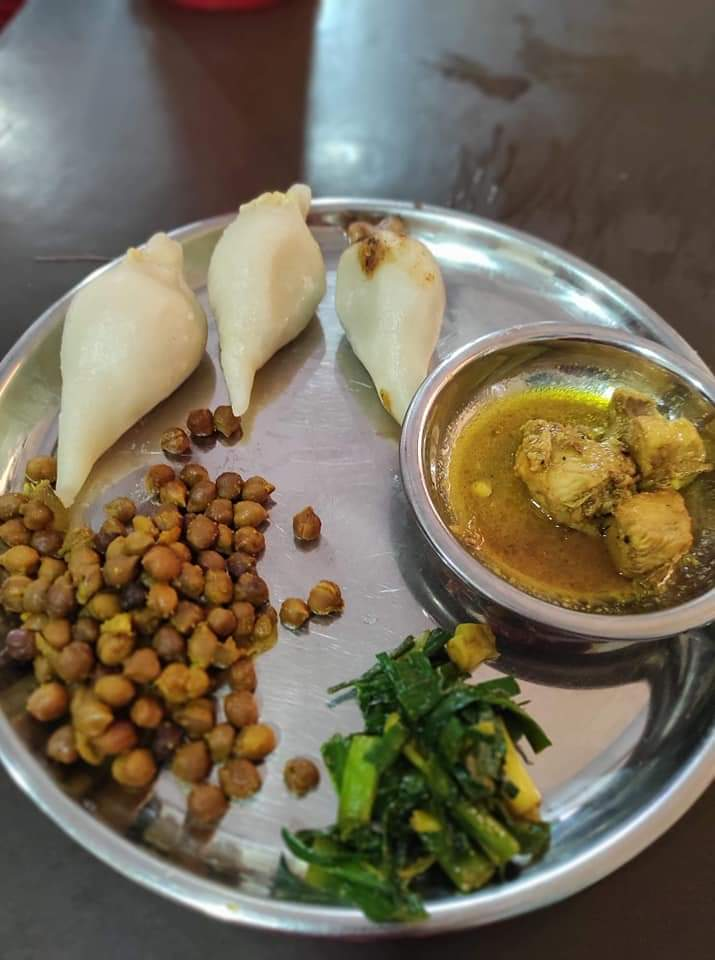yomari: (40, 234, 194, 502), (222, 182, 326, 406), (348, 206, 430, 416)
